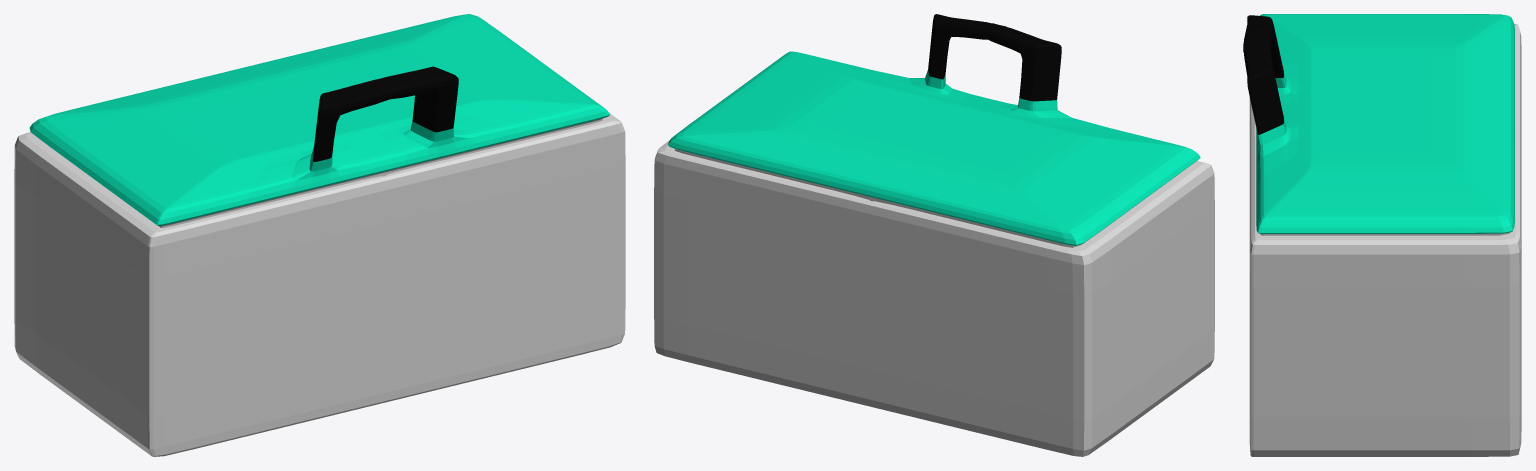
File: Cooler_1.fbx
3 views of the same model, side by side, from view 1: azimuth 30°, elevation 25°; view 2: azimuth 150°, elevation 25°; view 3: azimuth 270°, elevation 25° (orthographic). The views are drawn at different scales.
Parts seen in each view (by area): view 1: Box, Lid; view 2: Box, Lid; view 3: Box, Lid.
Boxes of the visible parts, x1,y1,x2,y2 form: Box: [14, 113, 625, 456]; Lid: [29, 14, 609, 227]; Box: [654, 140, 1214, 456]; Lid: [668, 14, 1200, 247]; Box: [1249, 23, 1521, 456]; Lid: [1243, 14, 1514, 235].
Bounding box in the file's own units: 157 × 99.84 × 81.91.
